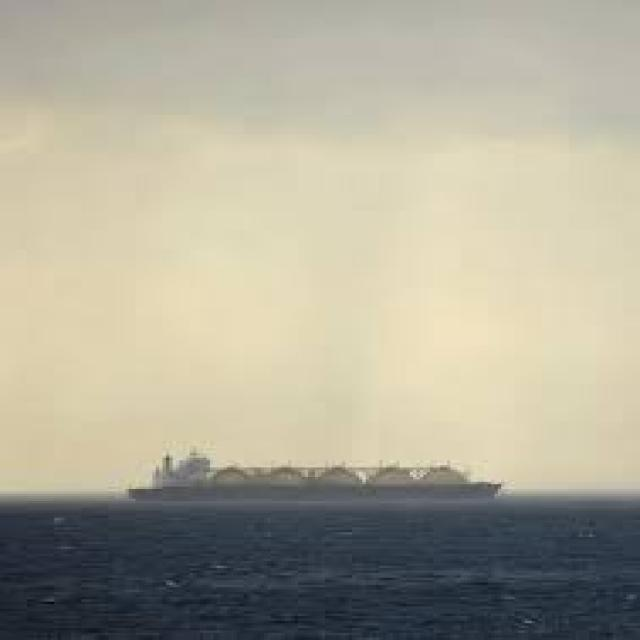cargoship: (126, 440, 500, 504)
